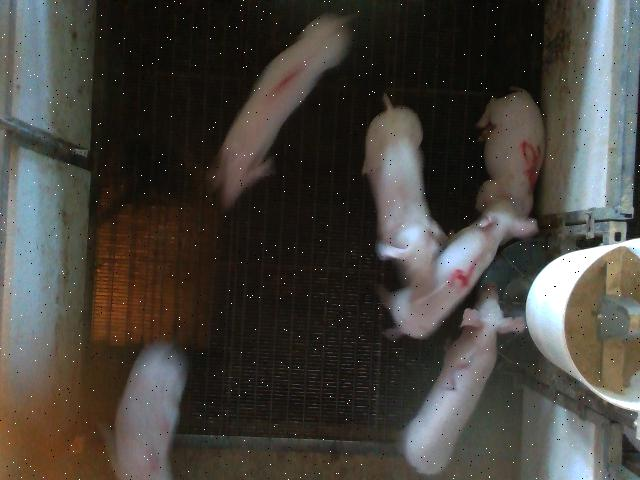pig-1: (208, 14, 349, 208)
pig-2: (404, 284, 525, 474)
pig-3: (112, 341, 188, 478)
pig-4: (381, 210, 538, 338)
pig-5: (476, 88, 545, 218)
